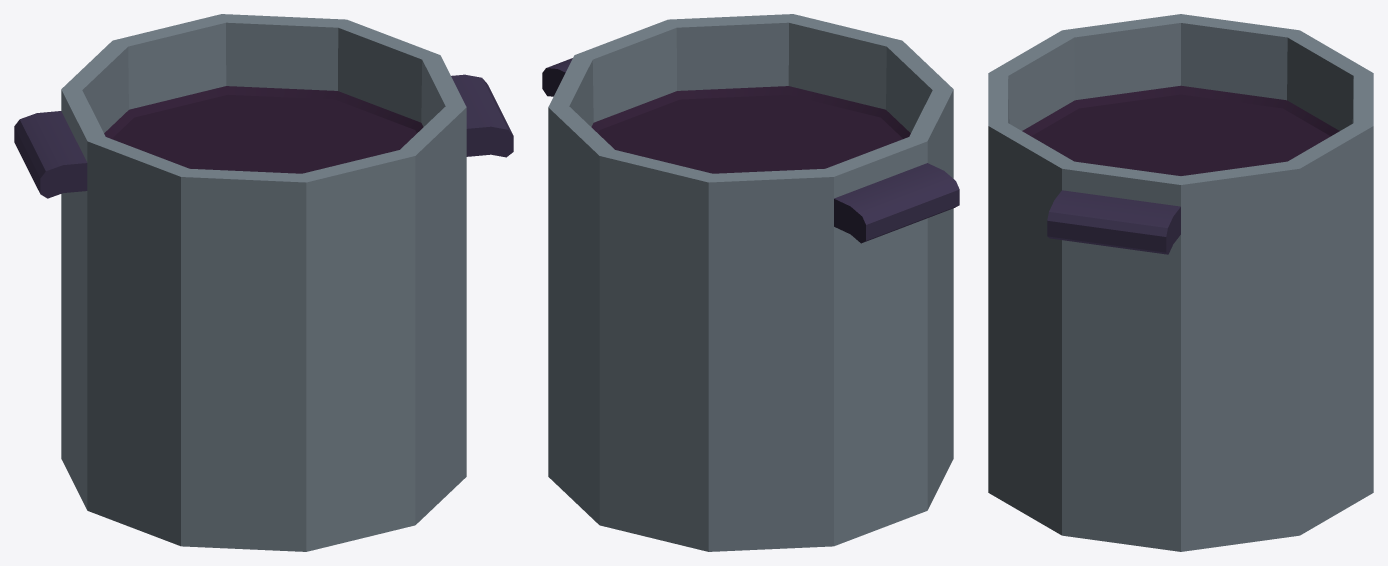
Rendered from PROP_Pot.fbx.
3 views of the same model, side by side, from view 1: azimuth 30°, elevation 25°; view 2: azimuth 150°, elevation 25°; view 3: azimuth 270°, elevation 25° (orthographic).
Visible parts, largest first — view 1: Pot; view 2: Pot; view 3: Pot.
Part boxes in pixels (x1,y1,x2,y2): Pot: (14,14,513,551); Pot: (542,14,959,551); Pot: (988,14,1373,551).
Size of the model in its own units: 31.06 by 25.36 by 24.12.
Materials: 1 (1 with a texture image).
